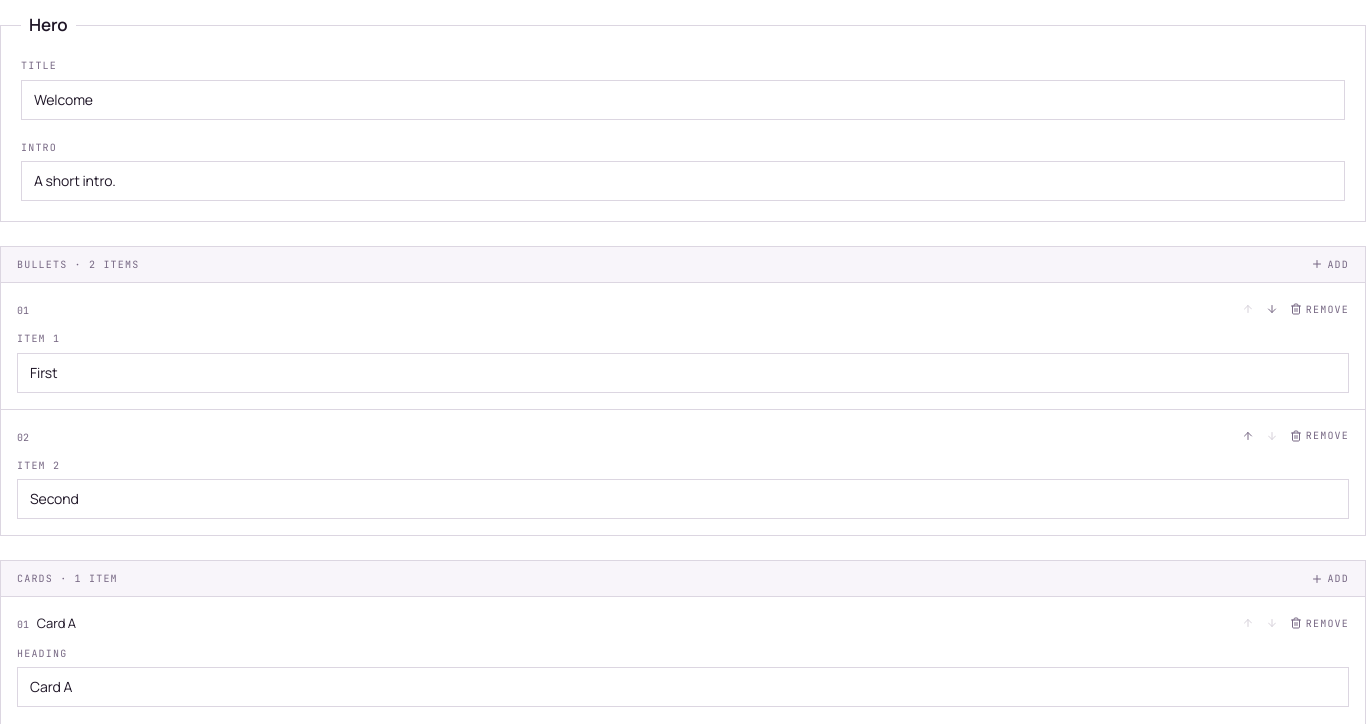
Test: ContentEditor › removing every item stores an empty list (the admin's 'remove this section')
This screenshot has width=1366, height=724.
What coordinates should you click on to do the following:
click the button "Remove" in the row of "Card A"
I would click on:
 (1319, 623)
Its box is x1=1290 y1=616 x2=1349 y2=631.
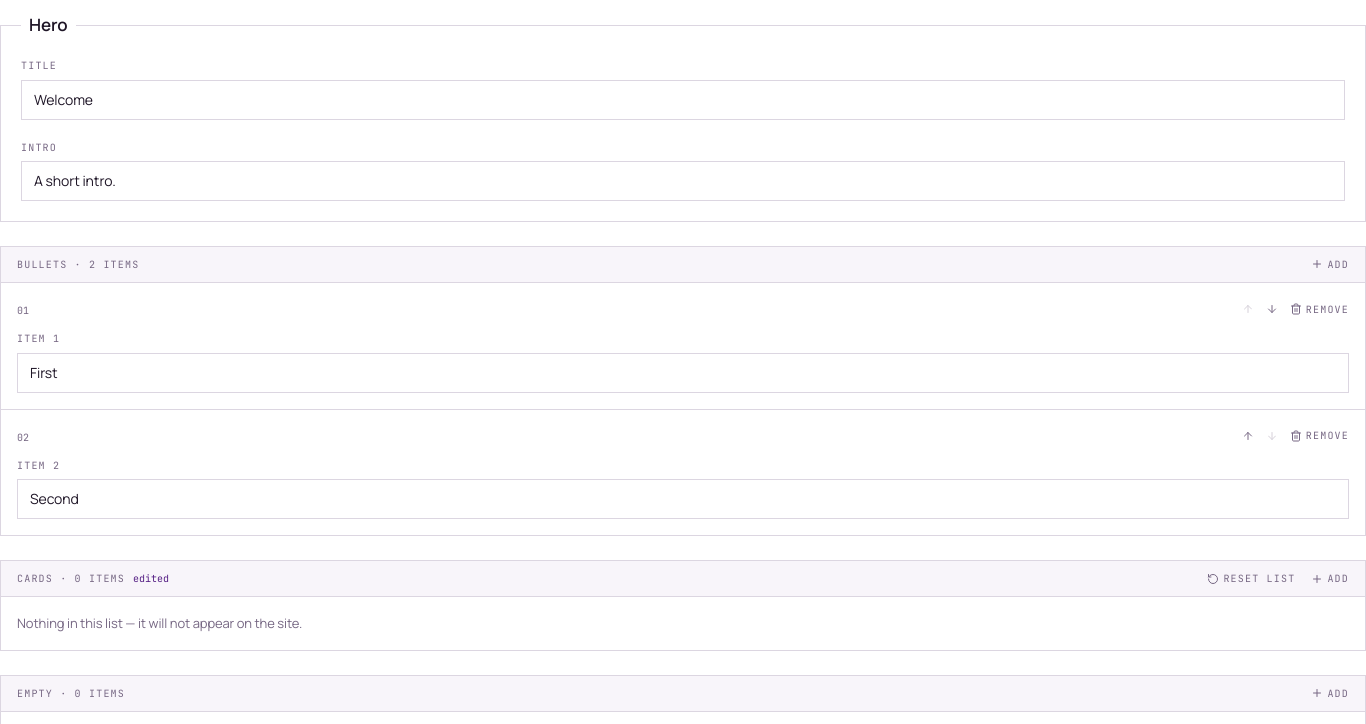
Check: the text "Nothing in this list — it will not appear on the site." below "Cards" is shown, box x1=17 y1=614 x2=302 y2=632
